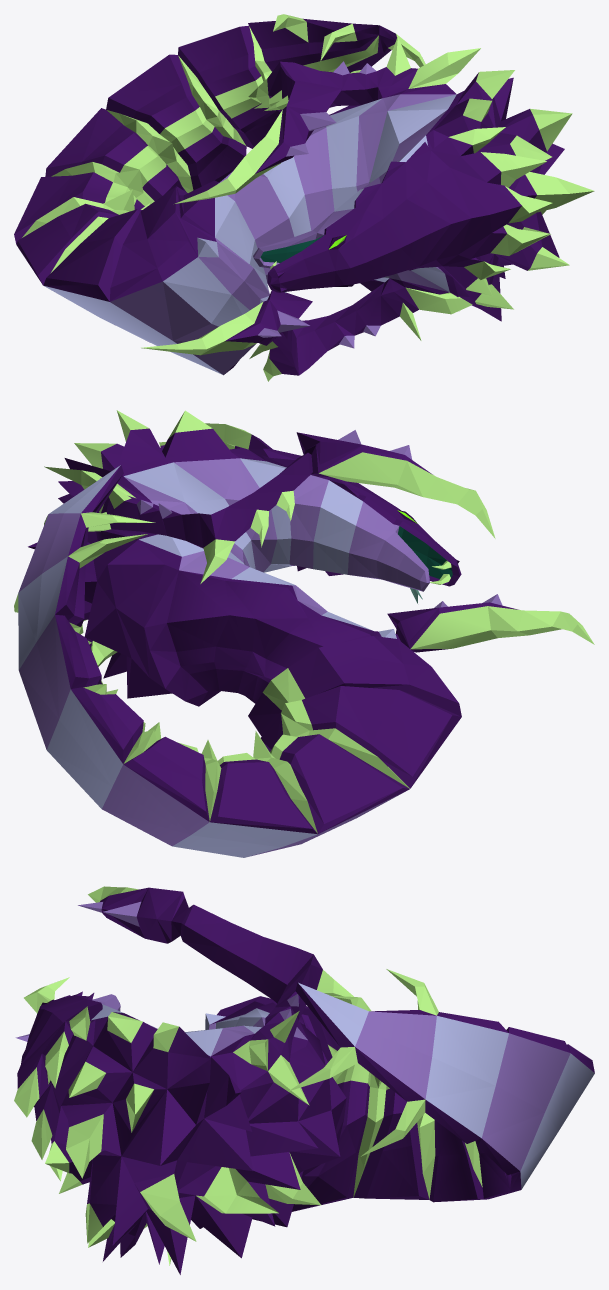
The model's file is Dead (31).obj.
3 renders of one model, top to bottom at view 1: azimuth 30°, elevation 25°; view 2: azimuth 150°, elevation 25°; view 3: azimuth 270°, elevation 25°, orthographic. The views are drawn at different scales.
Visible parts, largest first — view 1: Alien_Serpent; view 2: Alien_Serpent; view 3: Alien_Serpent.
Boxes of the visible parts, x1,y1,x2,y2 form: Alien_Serpent: (14,14,594,381); Alien_Serpent: (14,410,594,857); Alien_Serpent: (14,886,594,1274).
Bounding box in the file's own units: 238 × 155 × 235.
Materials: 1 (1 with a texture image).
